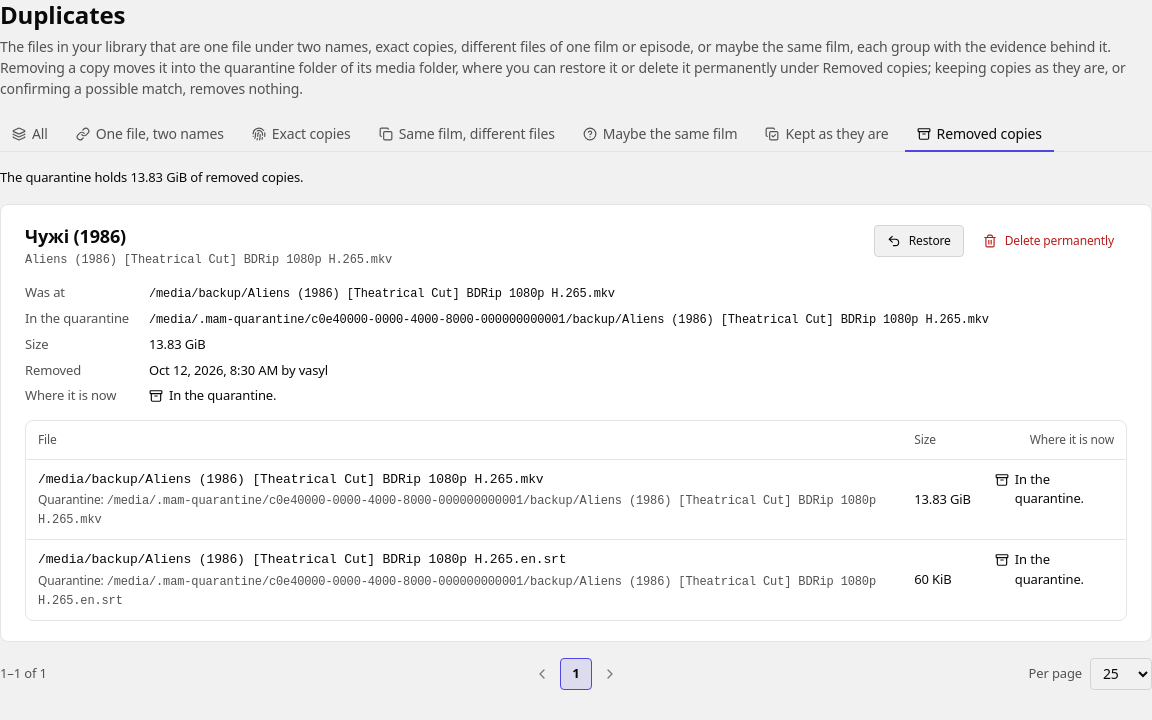
Test: DuplicatesPage Removed copies › deletes the copy for good by its id, with no names, and says so above the list
Click the button "Delete permanently" at {"x": 1048, "y": 240}, box [970,224,1127,256]
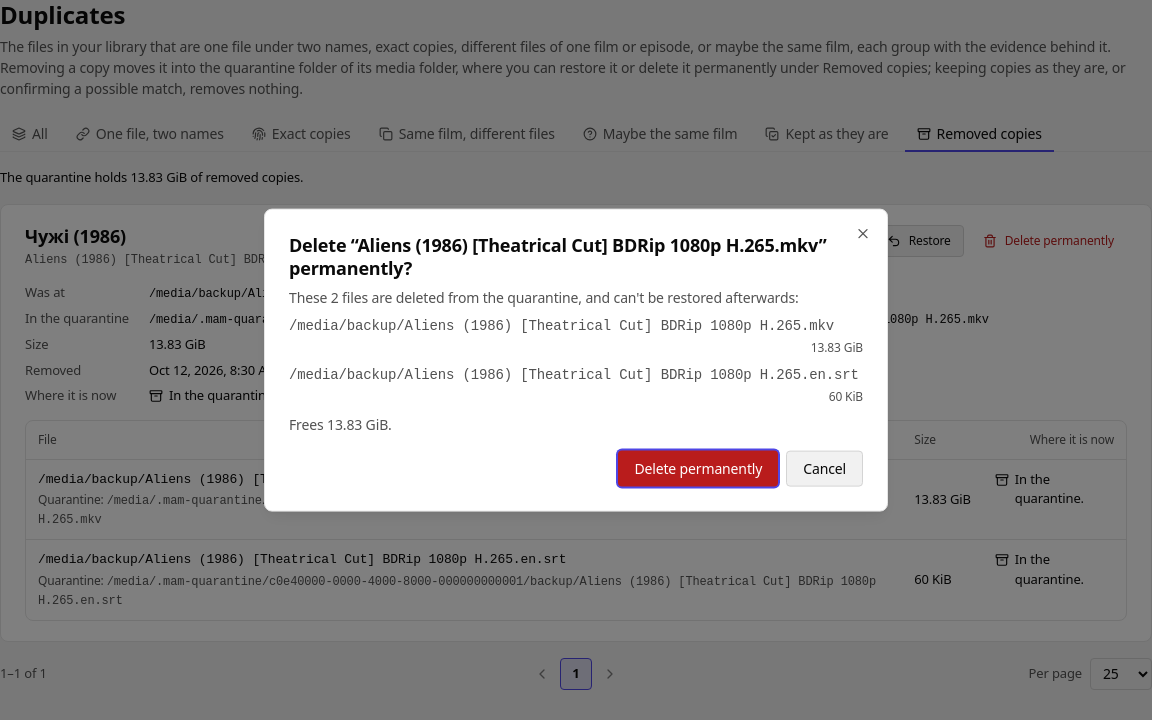
Click the button "Delete permanently" at {"x": 698, "y": 468}, box [618,450,778,486]
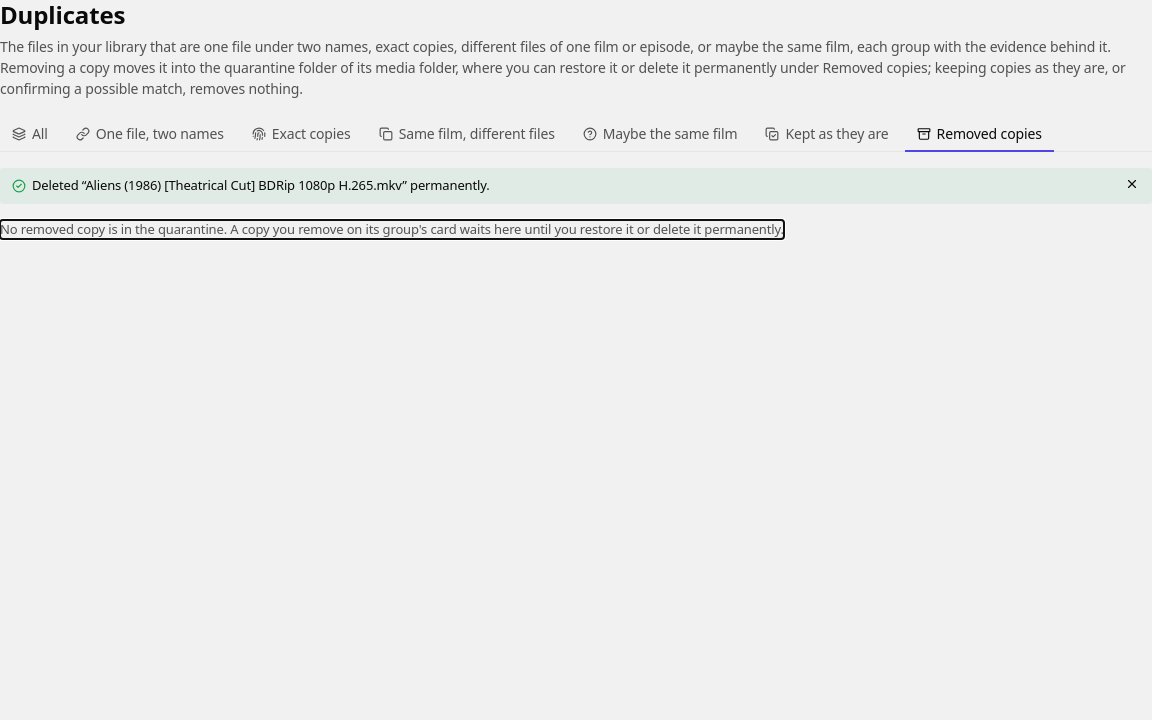
Expected: the text "No removed copy is in the quarantine" is shown, [0,220,784,238]
